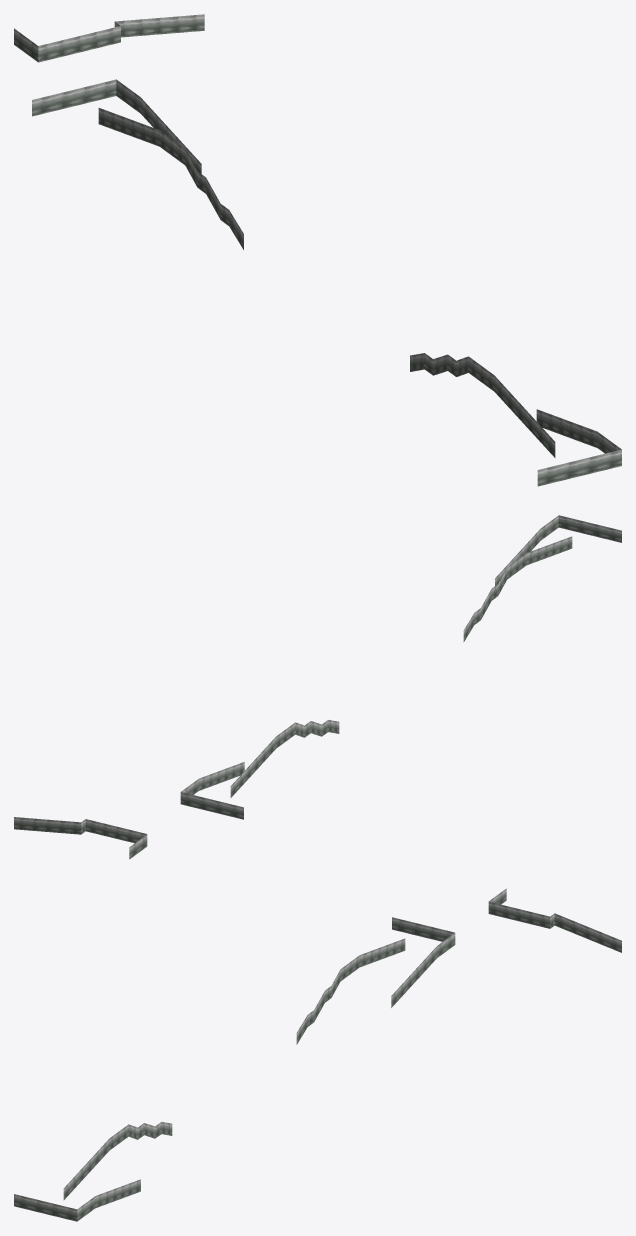
Rendered from sw_breweryfence02.obj.
The picture shows the model from 3 angles, top to bottom: view 1: azimuth 30°, elevation 25°; view 2: azimuth 150°, elevation 25°; view 3: azimuth 330°, elevation 25°; orthographic projection. The views are drawn at different scales.
Parts seen in each view (by area): view 1: sw_breweryFence02; view 2: sw_breweryFence02; view 3: sw_breweryFence02.
Part boxes in pixels (x1,y1,x2,y2): sw_breweryFence02: (14,14,621,486); sw_breweryFence02: (14,515,621,859); sw_breweryFence02: (14,888,621,1221).
Size of the model in its own units: 22.74 by 5.5 by 96.96.
